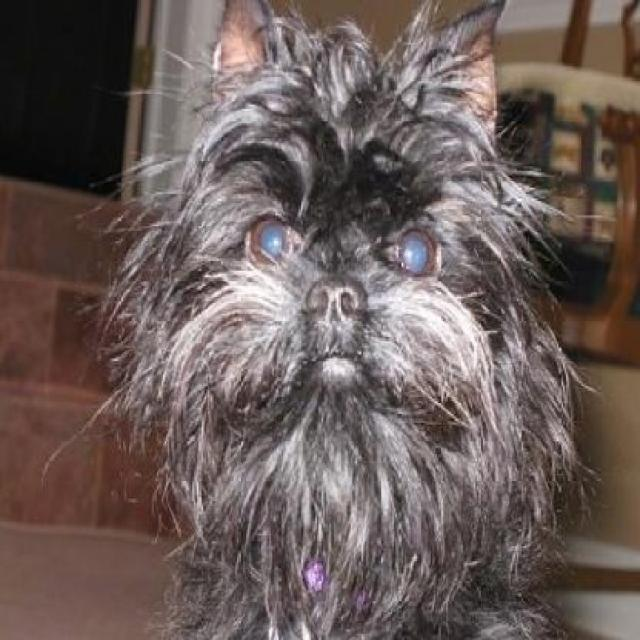animals: (133, 13, 570, 630)
